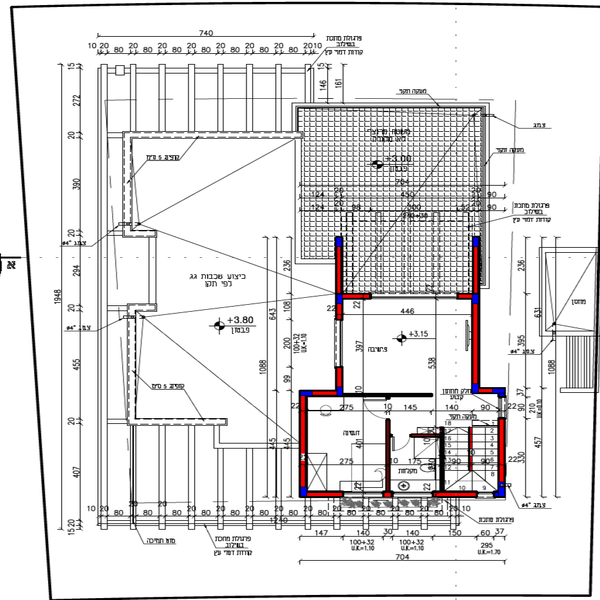door: (389, 426, 418, 453), (363, 396, 394, 420)
room: (334, 291, 477, 395), (391, 386, 506, 497), (297, 389, 393, 500)
wall: (295, 388, 310, 500), (345, 390, 433, 403), (472, 241, 479, 390), (437, 420, 451, 492), (383, 420, 394, 498), (497, 418, 506, 500), (337, 235, 344, 322), (434, 487, 477, 501), (464, 424, 477, 469), (469, 382, 506, 397), (301, 386, 337, 399), (408, 429, 442, 442), (304, 490, 345, 500), (334, 293, 375, 300)
window: (395, 490, 433, 508), (344, 491, 386, 503), (477, 492, 492, 503)
